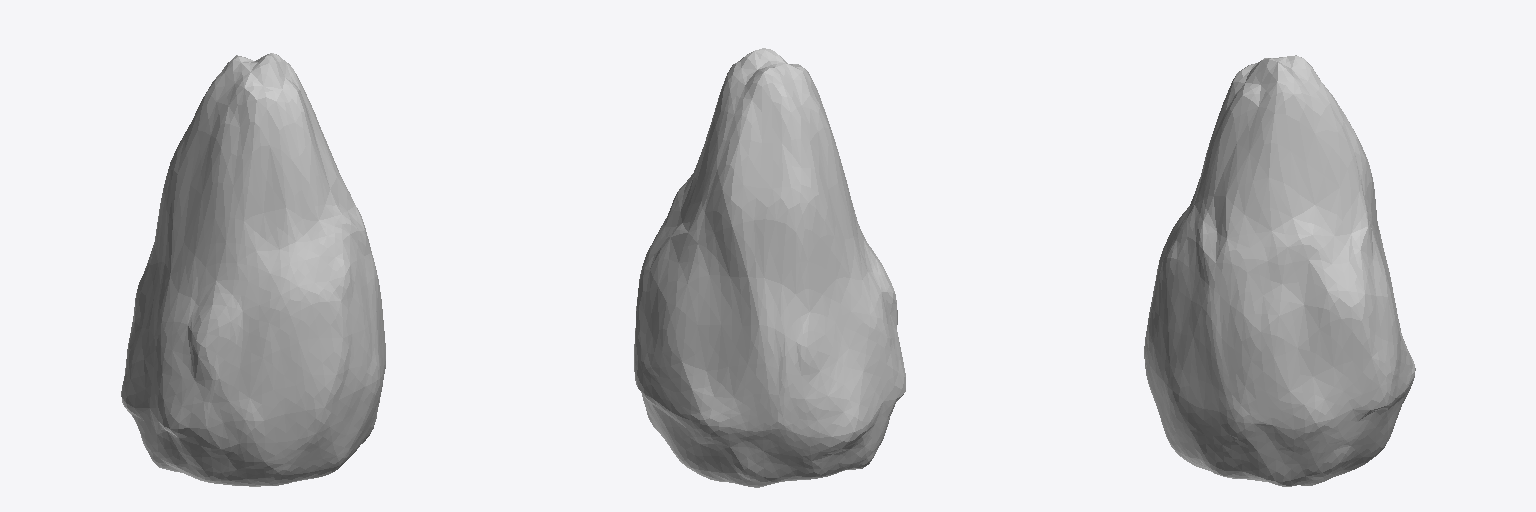
The model's file is arock.obj.
3 renders of one model, left to right at view 1: azimuth 30°, elevation 25°; view 2: azimuth 150°, elevation 25°; view 3: azimuth 270°, elevation 25°, orthographic.
Visible parts, largest first — view 1: Icosphere; view 2: Icosphere; view 3: Icosphere.
Part boxes in pixels (x1,y1,x2,y2): Icosphere: (121,53,385,486); Icosphere: (634,48,905,487); Icosphere: (1144,55,1415,486).
Size of the model in its own units: 1.97 by 3.35 by 2.04.